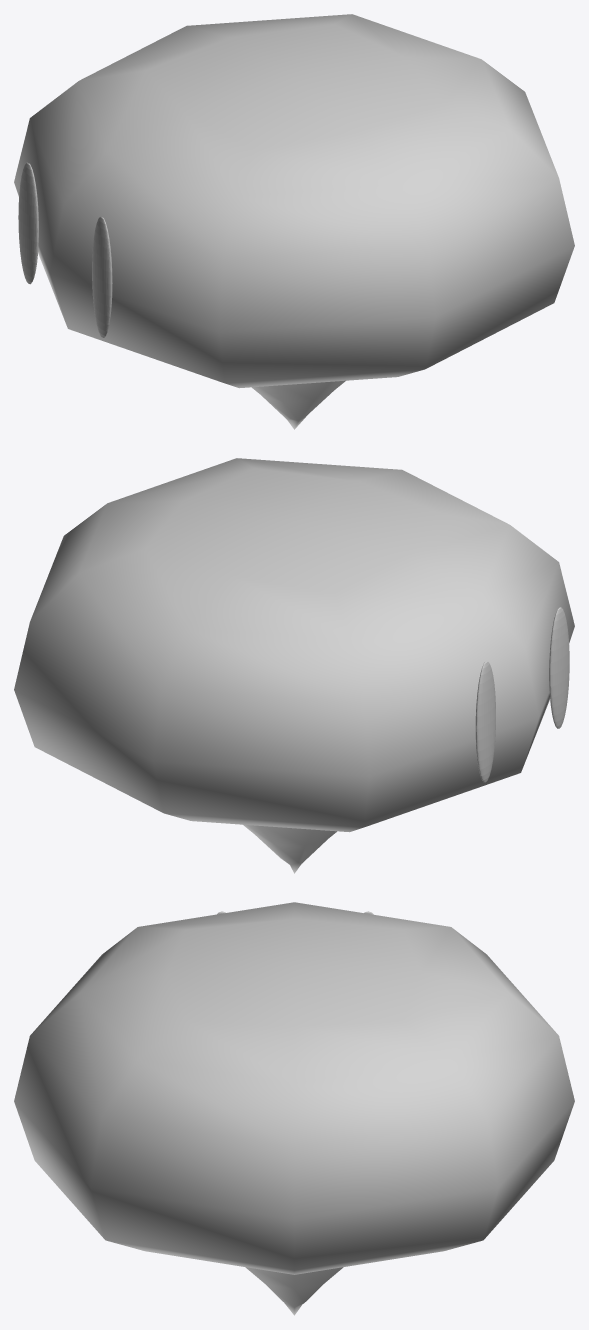
The model's file is stellarine.fbx.
3 renders of one model, top to bottom at view 1: azimuth 30°, elevation 25°; view 2: azimuth 150°, elevation 25°; view 3: azimuth 270°, elevation 25°, orthographic.
Parts seen in each view (by area): view 1: Cube; view 2: Cube; view 3: Cube.
Boxes of the visible parts, box(x1,y1,x2,y2) form: Cube: box(14, 14, 574, 429); Cube: box(14, 458, 574, 873); Cube: box(14, 902, 574, 1315).
Size of the model in its own units: 275 by 189 by 275.
Materials: 1 (1 with a texture image).
